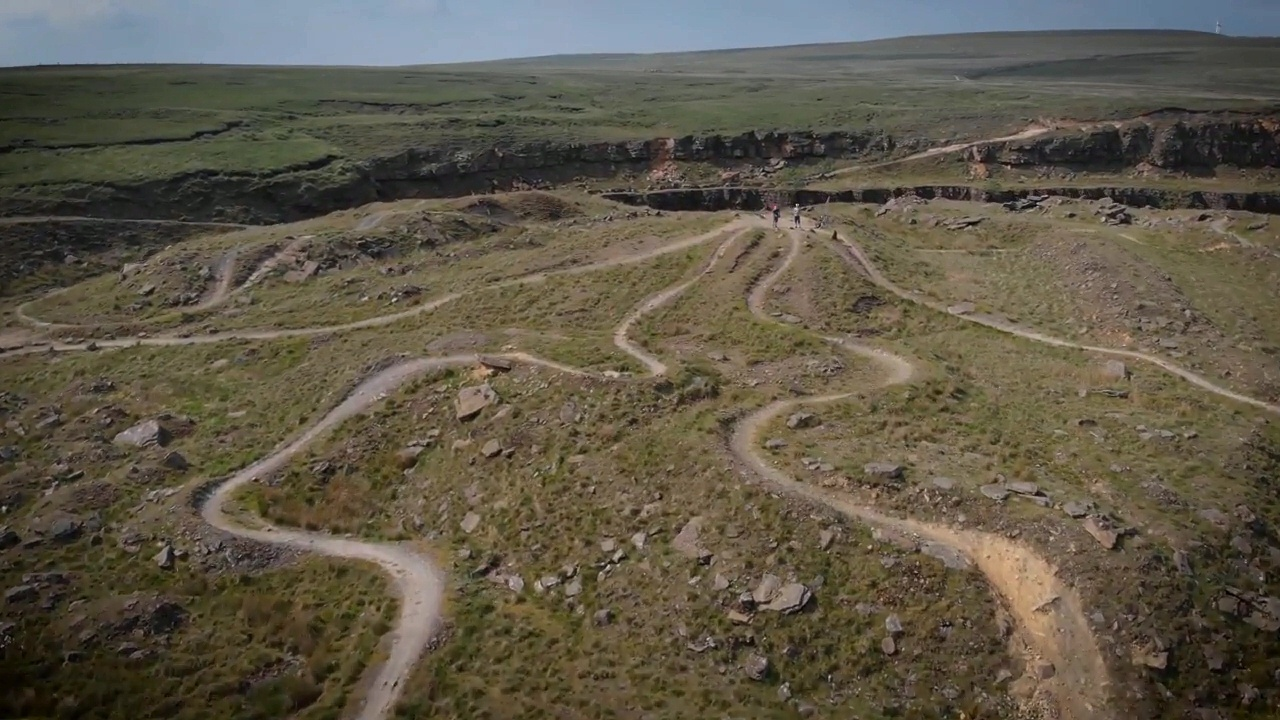insan: (771, 205, 782, 229), (794, 203, 801, 229)
